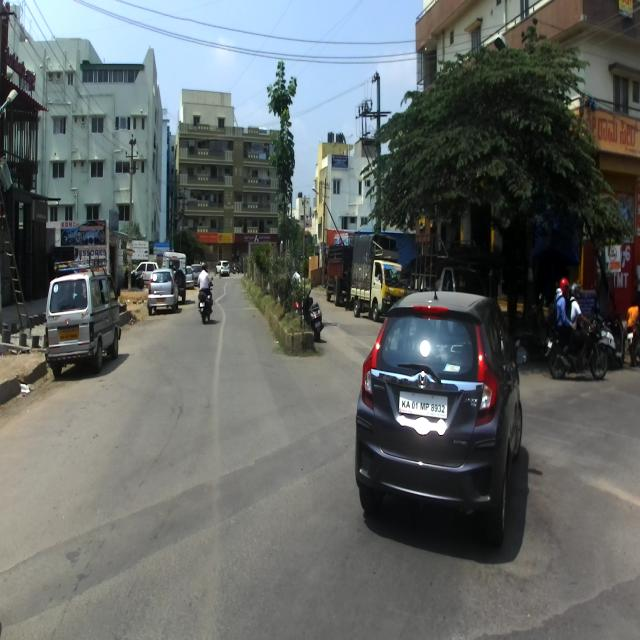car ahead at: (354, 274, 527, 572), (45, 272, 122, 362), (147, 268, 179, 308)
motorcycle ahead at: (549, 283, 607, 385)
